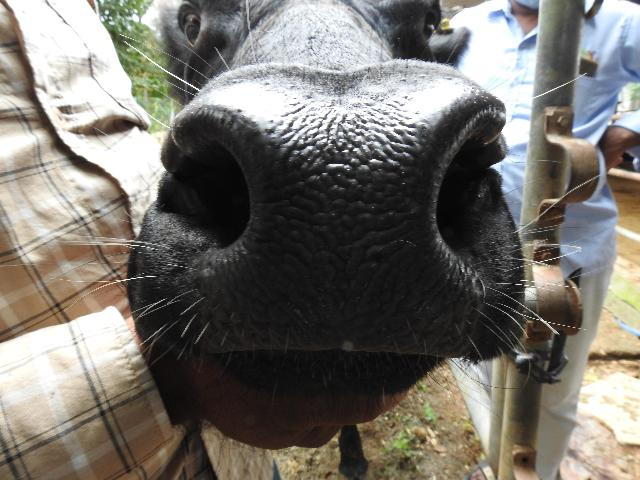Muzzle: (170, 72, 502, 358)
